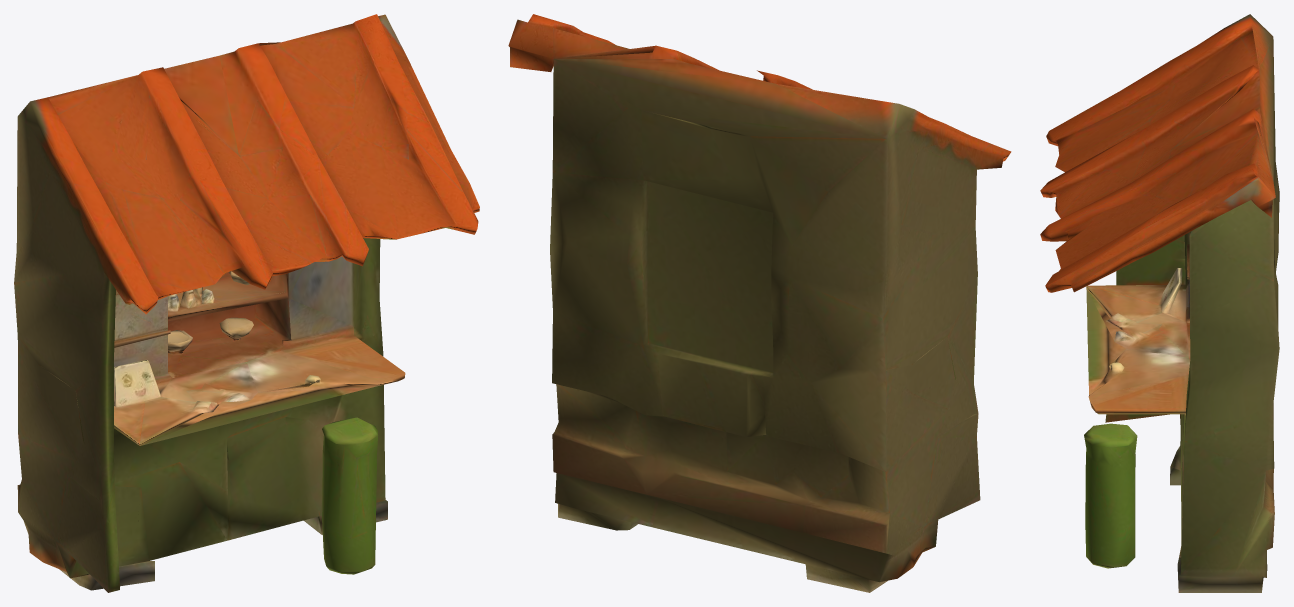
The model's file is kiosk.glb.
3 views of the same model, side by side, from view 1: azimuth 30°, elevation 25°; view 2: azimuth 150°, elevation 25°; view 3: azimuth 270°, elevation 25° (orthographic). The views are drawn at different scales.
Size of the model in its own units: 1.53 by 1.9 by 0.9443.
1 material, 1 textured.
